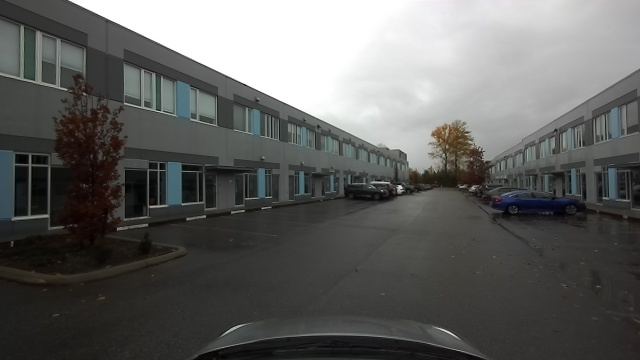car: (491, 188, 588, 217), (343, 182, 387, 201), (487, 187, 530, 205), (475, 183, 502, 197), (375, 182, 397, 199), (403, 184, 414, 195), (396, 184, 406, 196), (469, 184, 479, 195), (413, 184, 424, 193), (425, 183, 432, 190)
